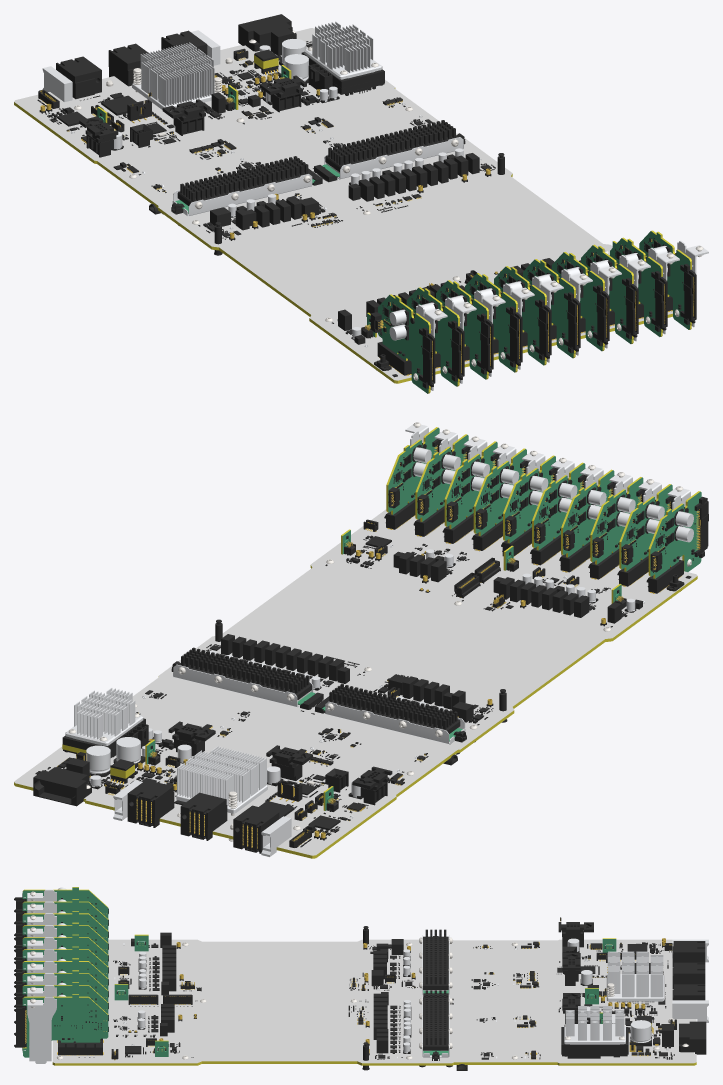
Rendered from cosmo-int-0.glb.
The picture shows the model from 3 angles, top to bottom: view 1: azimuth 30°, elevation 25°; view 2: azimuth 150°, elevation 25°; view 3: azimuth 270°, elevation 25°; orthographic projection. The views are drawn at different scales.
Parts seen in each view (by area): view 1: PCB.001, Cube.078, Cube.080, Cube.008, Alpha Novatech S089LB14.002, Cosmo_Sharkfin_BOARD.011, OXC991-0000150_sm-SHARKFIN BRACKET, COSMO.023, OXC991-0000150_sm-SHARKFIN BRACKET, COSMO.024, Cosmo_Sharkfin_BOARD.013, Cosmo_Sharkfin_BOARD.018, Cosmo_Sharkfin_BOARD.019, Cosmo_Sharkfin_BOARD.015 (+24 smaller); view 2: PCB.001, Cube.078, Cube.080, Cube.008, Alpha Novatech S089LB14.002, Cosmo_Sharkfin_BOARD.011, Cube.081, Cube.082, Cube.083, OXC991-0000150_sm-SHARKFIN BRACKET, COSMO.023, OXC991-0000150_sm-SHARKFIN BRACKET, COSMO.024, Cosmo_Sharkfin_BOARD.015 (+12 smaller); view 3: PCB.001, Cube.078, Cosmo_Sharkfin_BOARD.015, Cube.080, OXC991-0000150_sm-SHARKFIN BRACKET, COSMO.022, Cube.008, Alpha Novatech S089LB14.002, Cube.079, Cube.083, Cosmo_Sharkfin_BOARD.011, Cosmo_Sharkfin_BOARD.017, Cosmo_Sharkfin_BOARD.013 (+19 smaller).
Boxes of the visible parts, x1,y1,x2,y2 form: PCB.001: (14, 28, 672, 383); Cube.078: (132, 42, 223, 109); Cube.080: (304, 21, 382, 79); Cube.008: (325, 120, 456, 172); Alpha Novatech S089LB14.002: (177, 156, 310, 205); Cosmo_Sharkfin_BOARD.011: (378, 294, 430, 393); OXC991-0000150_sm-SHARKFIN BRACKET, COSMO.023: (172, 174, 312, 216); OXC991-0000150_sm-SHARKFIN BRACKET, COSMO.024: (324, 137, 463, 179); Cosmo_Sharkfin_BOARD.013: (494, 266, 546, 365); Cosmo_Sharkfin_BOARD.018: (523, 259, 575, 358); Cosmo_Sharkfin_BOARD.019: (552, 252, 604, 351); Cosmo_Sharkfin_BOARD.015: (639, 230, 691, 329); PCB.001: (14, 509, 697, 858); Cube.078: (176, 746, 267, 813); Cube.080: (65, 688, 143, 745); Cube.008: (180, 647, 311, 699); Alpha Novatech S089LB14.002: (327, 683, 460, 733); Cosmo_Sharkfin_BOARD.011: (648, 491, 701, 578); Cube.081: (180, 792, 227, 840); Cube.082: (127, 780, 174, 827); Cube.083: (33, 767, 91, 806); OXC991-0000150_sm-SHARKFIN BRACKET, COSMO.023: (325, 701, 465, 744); OXC991-0000150_sm-SHARKFIN BRACKET, COSMO.024: (173, 664, 313, 707); Cosmo_Sharkfin_BOARD.015: (386, 427, 439, 514); PCB.001: (52, 939, 696, 1065); Cube.078: (606, 951, 664, 1001); Cosmo_Sharkfin_BOARD.015: (22, 994, 108, 1057); Cube.080: (564, 1006, 625, 1044); OXC991-0000150_sm-SHARKFIN BRACKET, COSMO.022: (27, 997, 56, 1063); Cube.008: (423, 990, 448, 1050); Alpha Novatech S089LB14.002: (423, 929, 448, 989); Cube.079: (561, 1027, 628, 1058); Cube.083: (679, 1021, 706, 1054); Cosmo_Sharkfin_BOARD.011: (22, 887, 108, 918); Cosmo_Sharkfin_BOARD.017: (22, 922, 108, 954); Cosmo_Sharkfin_BOARD.013: (22, 934, 108, 966).
Size of the model in its own units: 0.254 by 0.0667 by 0.6043.
